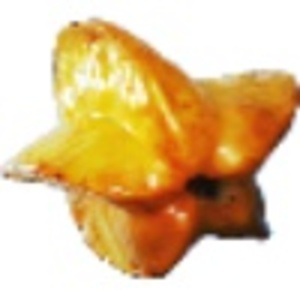carambola: (1, 17, 300, 281)
